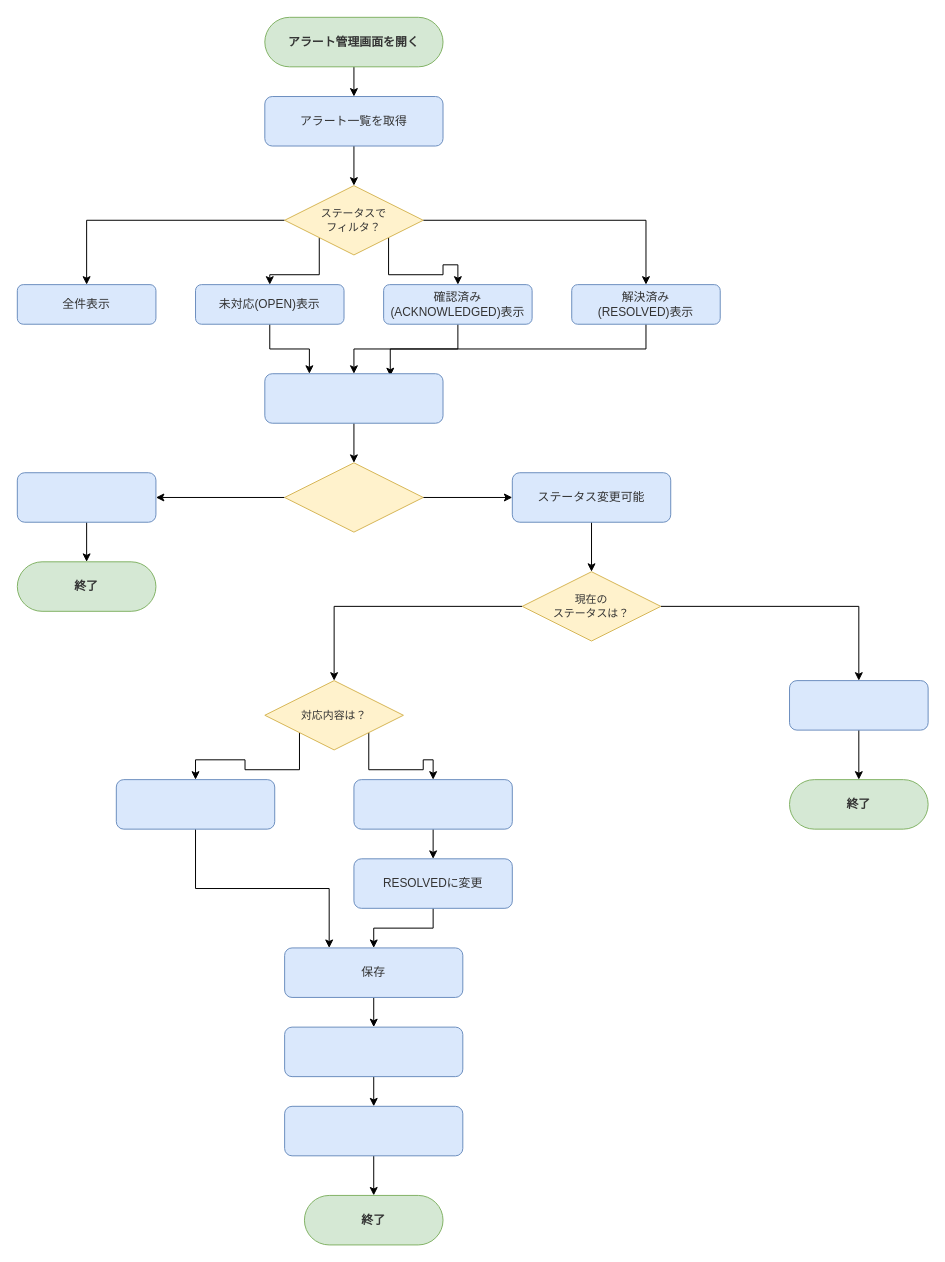
This 945x1262 diagram has some shape labels left out. Each missing label, with the box of its shape:
ACKNOWLEDGED に変更: (115, 779, 275, 829)
アラートを選択: (264, 373, 443, 423)
ダッシュボードの アラートバナー更新: (284, 1105, 463, 1156)
ユーザー ロールは？: (284, 462, 423, 532)
対応済み: (789, 680, 928, 730)
対応者・対応日時を 自動記録: (284, 1026, 463, 1077)
是正措置を入力: (353, 779, 512, 829)
閲覧のみ: (16, 472, 156, 522)
